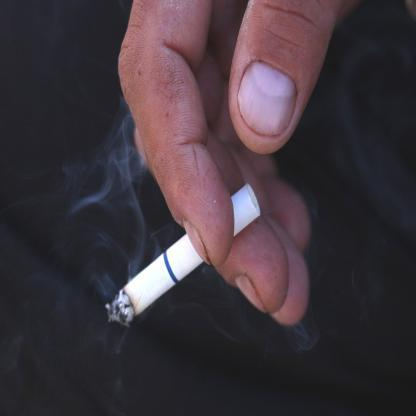cigarette: (102, 180, 262, 334)
smoke: (109, 124, 145, 270)
